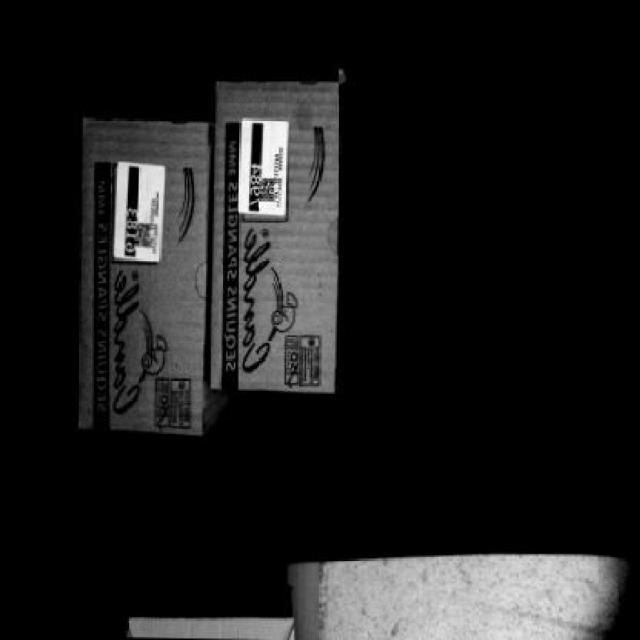cardboxes: (74, 119, 208, 430), (209, 80, 337, 392)
